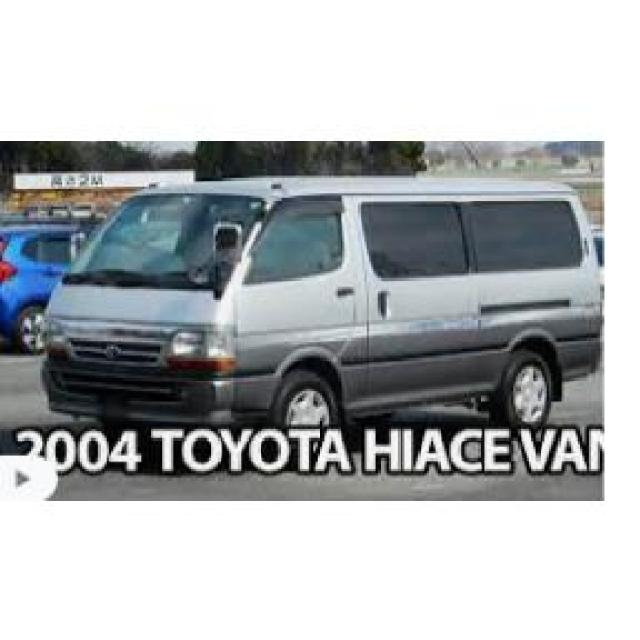Van: (40, 168, 598, 426)
